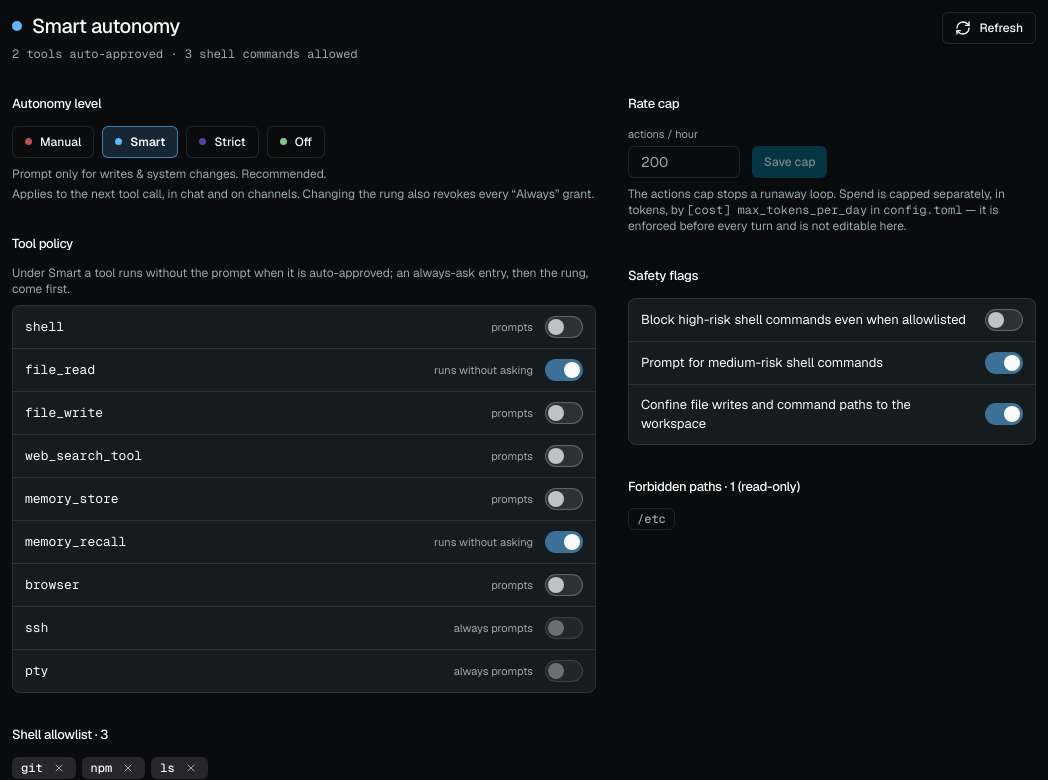
Test: ToolsPanel caps › saves the actions cap, names it, and goes clean again
Check: the text "Prompt only for writes & system changes. Recommended." is shown, box x1=12 y1=166 x2=326 y2=182
Replace the text in the number field labelled "actions / hour" with "300" at (684, 162), box x1=628 y1=146 x2=740 y2=178
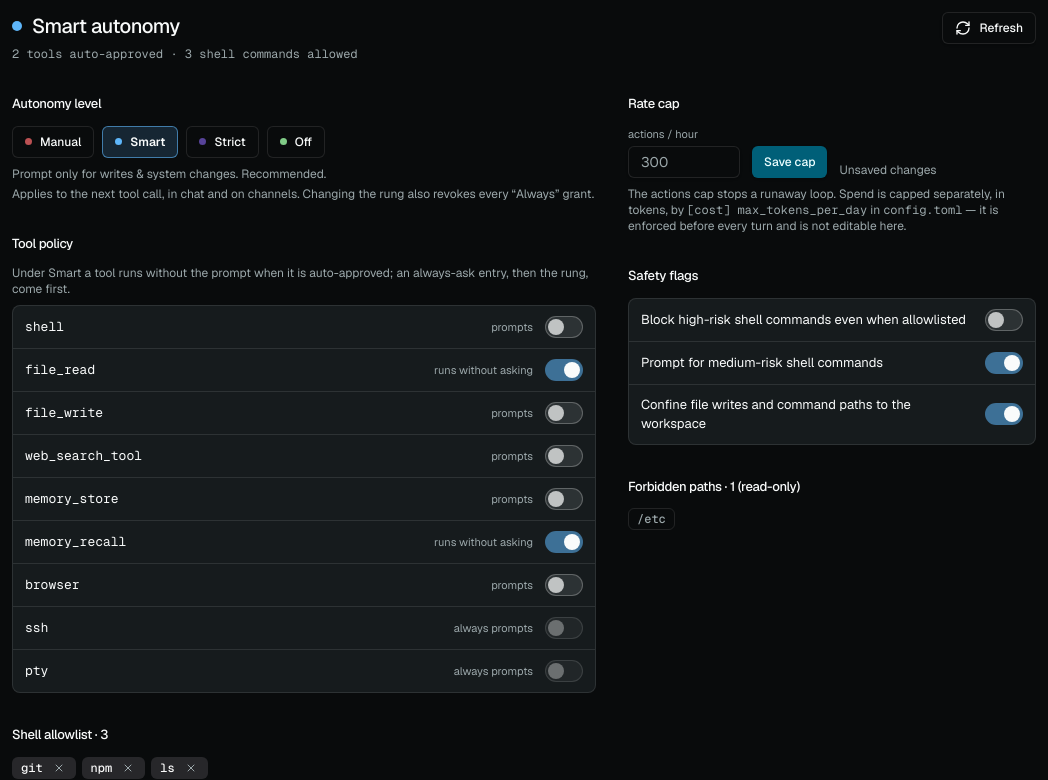
Click the button "Save cap" at (790, 162), box x1=752 y1=146 x2=827 y2=178
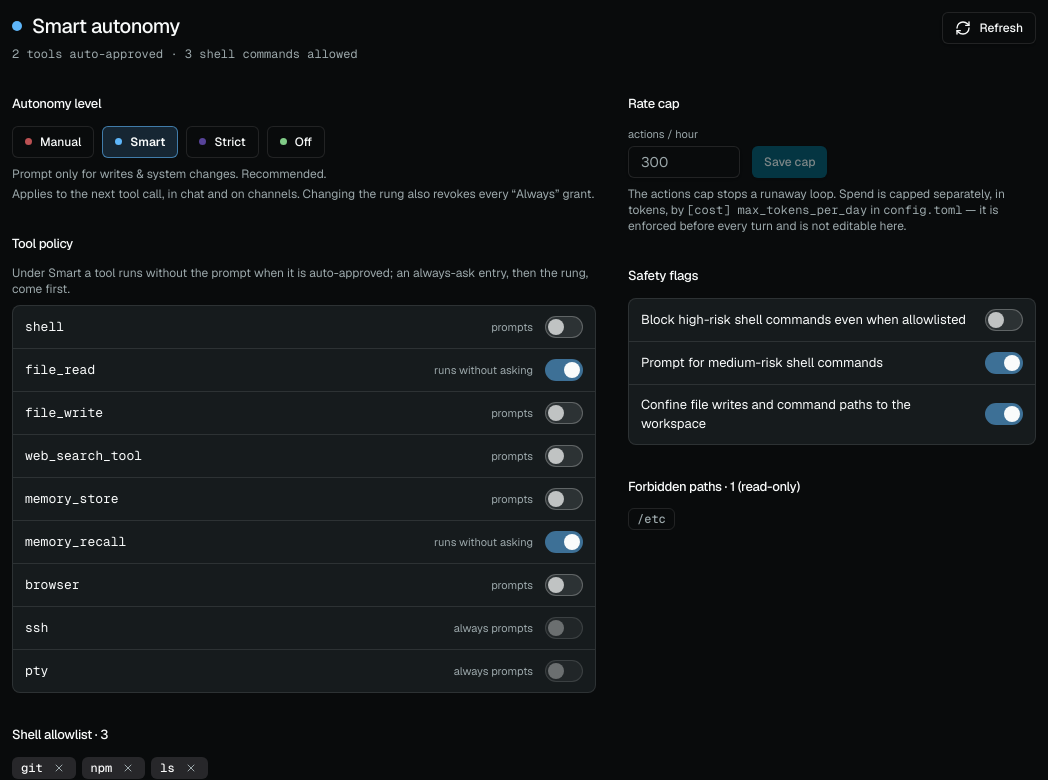
Check: the text "Unsaved changes" is gone
